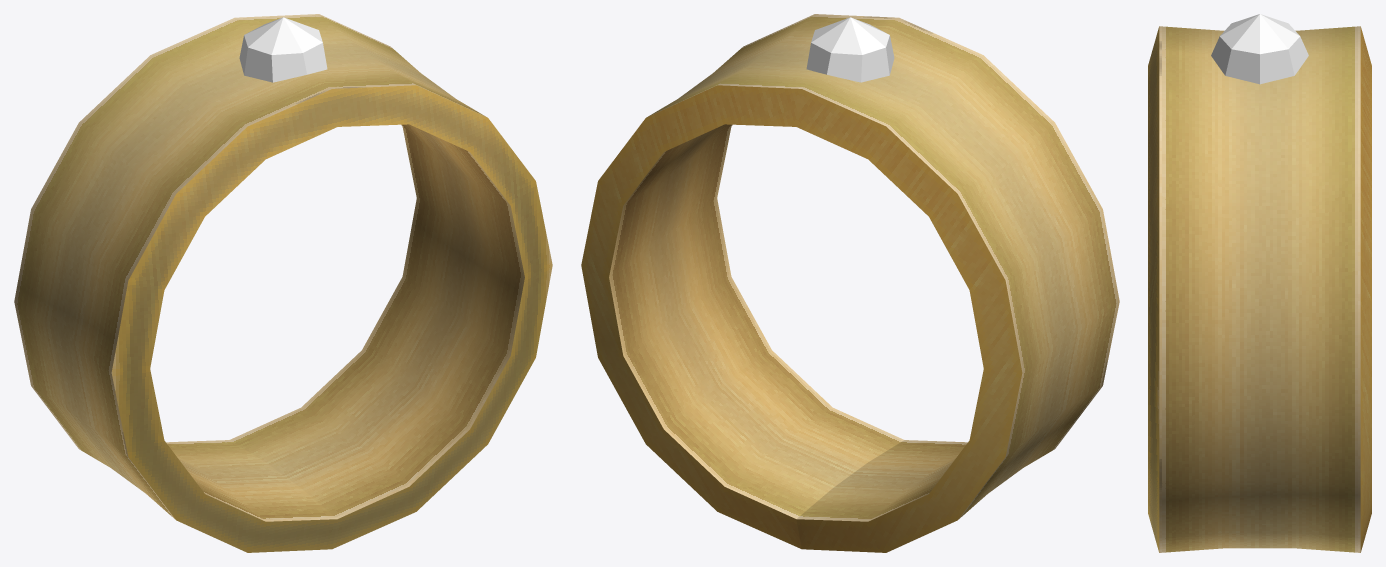
File: basic_ring.glb
The picture shows the model from 3 angles, left to right: view 1: azimuth 30°, elevation 25°; view 2: azimuth 150°, elevation 25°; view 3: azimuth 270°, elevation 25°; orthographic projection. The views are drawn at different scales.
Parts seen in each view (by area): view 1: Ring; view 2: Ring; view 3: Ring.
Boxes of the visible parts, box(x1,y1,x2,y2) form: Ring: box(14, 14, 552, 552); Ring: box(581, 14, 1119, 552); Ring: box(1148, 14, 1371, 552).
Size of the model in its own units: 0.0753 by 0.081 by 0.032.
2 materials, 1 textured.
